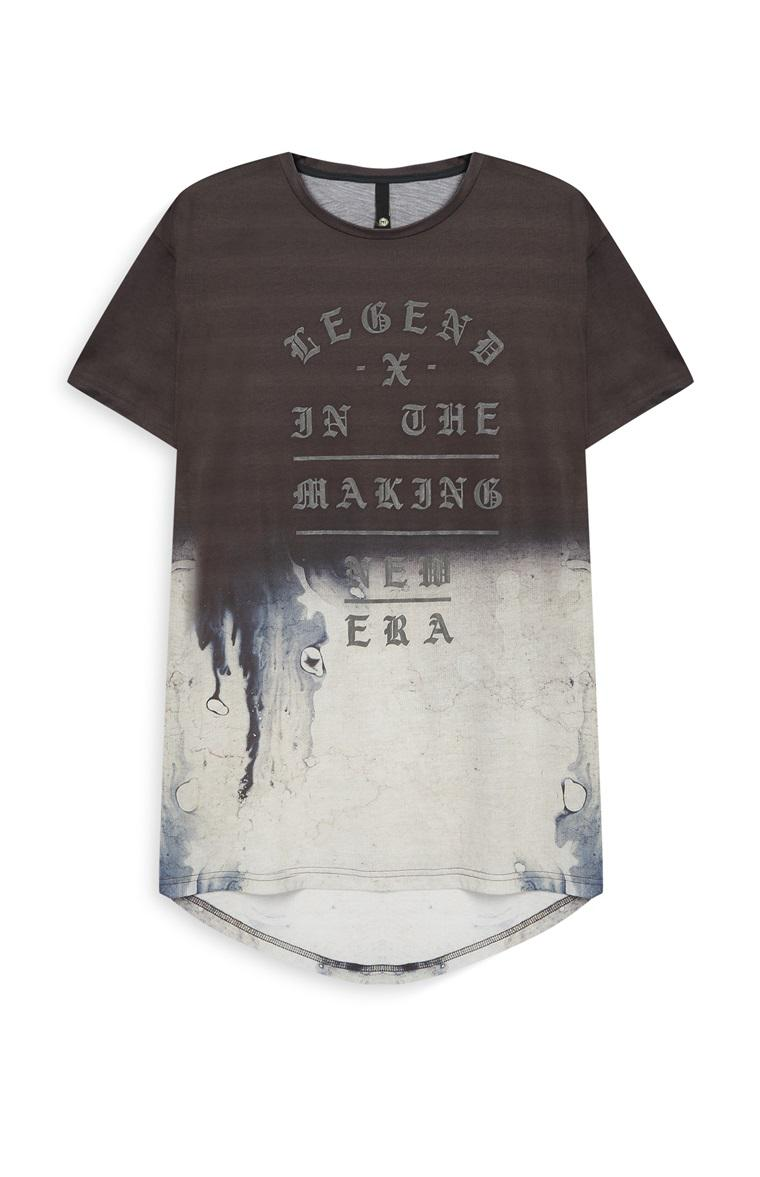teeshirt: (45, 135, 705, 1035)
